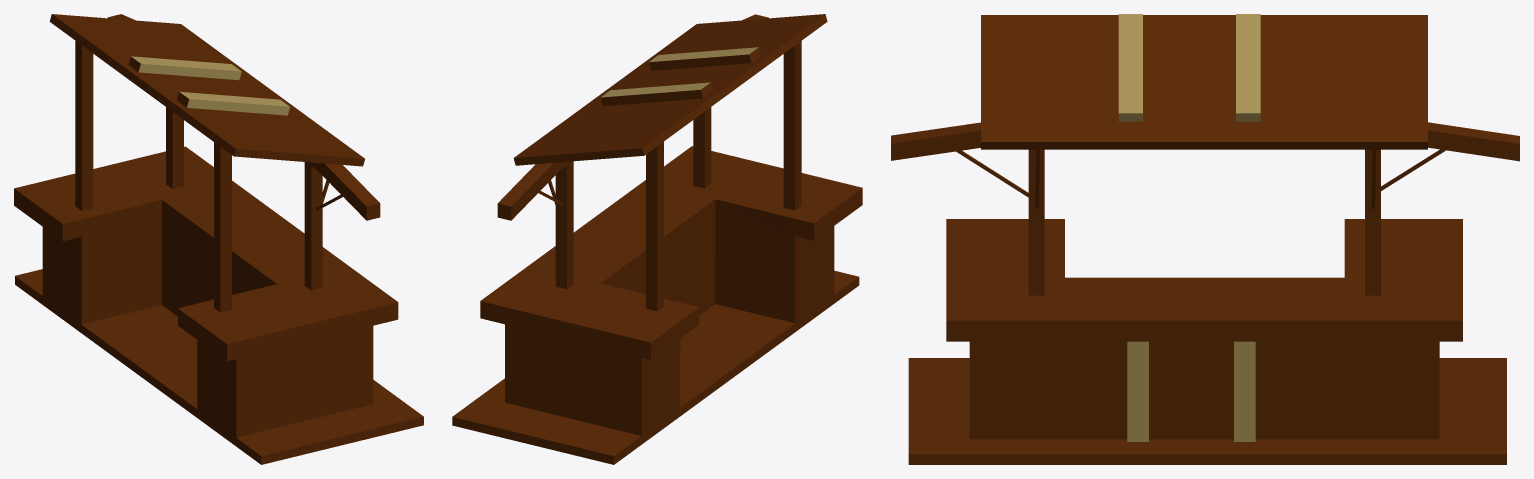
File: stall 1.fbx
3 views of the same model, side by side, from view 1: azimuth 30°, elevation 25°; view 2: azimuth 150°, elevation 25°; view 3: azimuth 270°, elevation 25° (orthographic). The views are drawn at different scales.
Parts seen in each view (by area): view 1: Stall; view 2: Stall; view 3: Stall.
Part boxes in pixels (bbox=[...]): Stall: bbox=[14, 14, 423, 464]; Stall: bbox=[452, 14, 862, 464]; Stall: bbox=[891, 14, 1519, 464].
Size of the model in its own units: 362 by 571 by 895.
